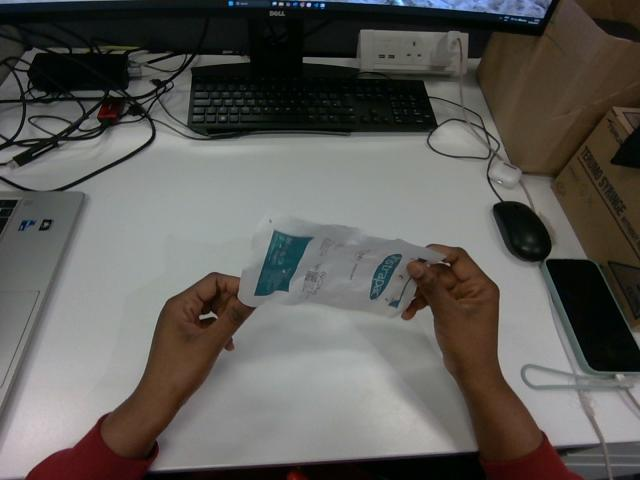gallipot: (238, 213, 443, 316)
